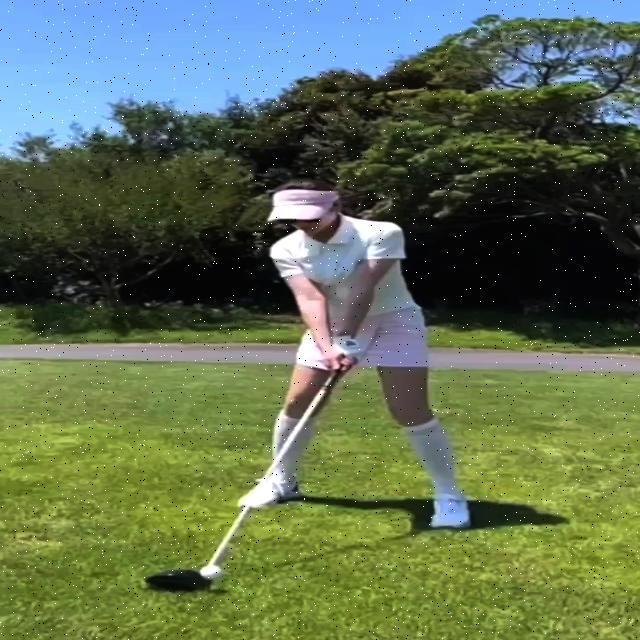ClubHead: (145, 570, 205, 592)
GolfBall: (199, 565, 225, 580)
